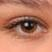eye: (21, 21, 37, 33)
